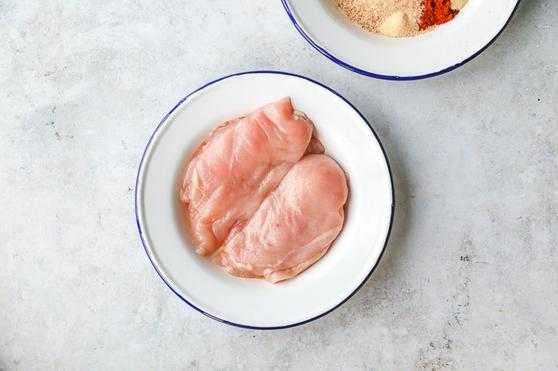chicken_fillet: (169, 102, 306, 226), (233, 158, 356, 293)
